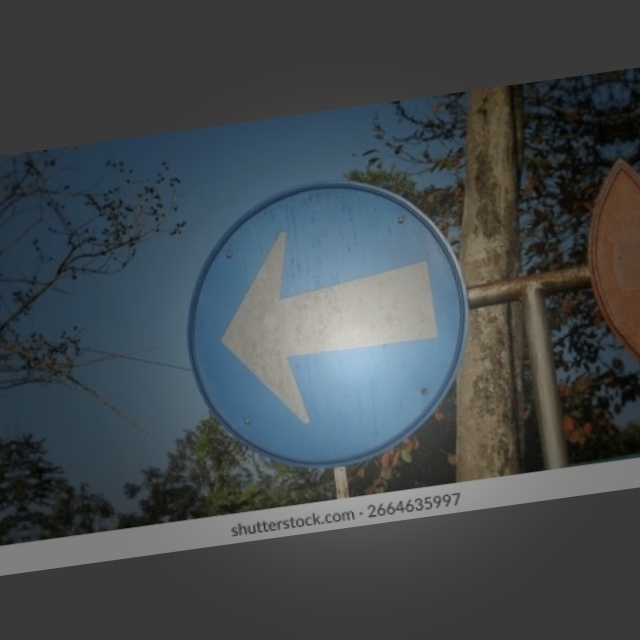Compulsory_Turn_Left: (176, 171, 487, 477)
